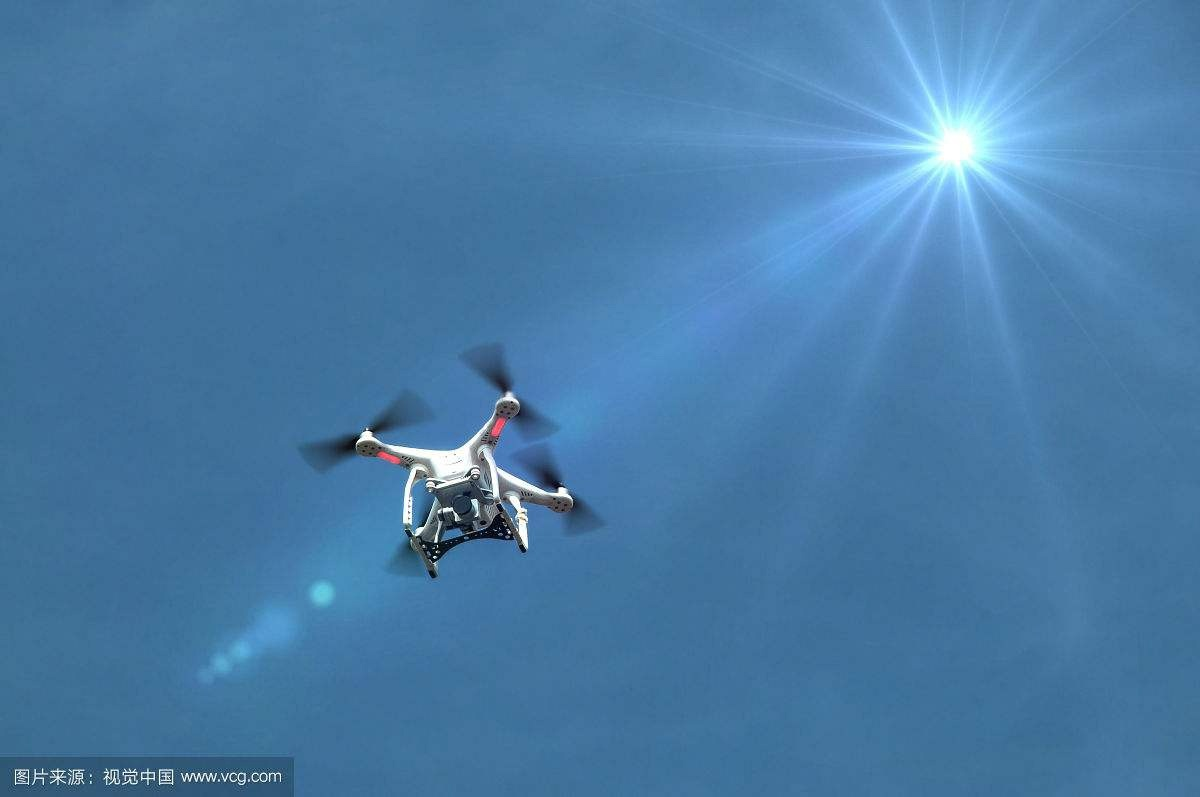DJI: (350, 390, 580, 587)
